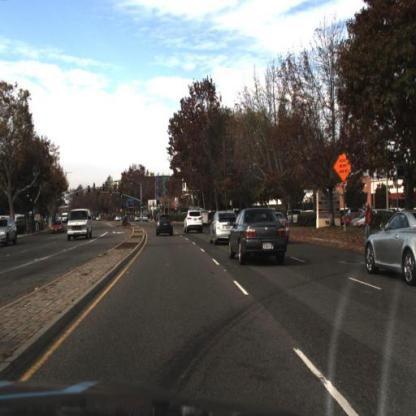car: (225, 205, 291, 274), (364, 207, 416, 290), (62, 204, 98, 246), (209, 202, 234, 254), (182, 206, 207, 240), (155, 213, 177, 242), (2, 215, 19, 247)
pedestrian: (364, 203, 375, 250)
